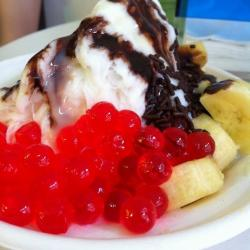icecream: (13, 5, 201, 143)
